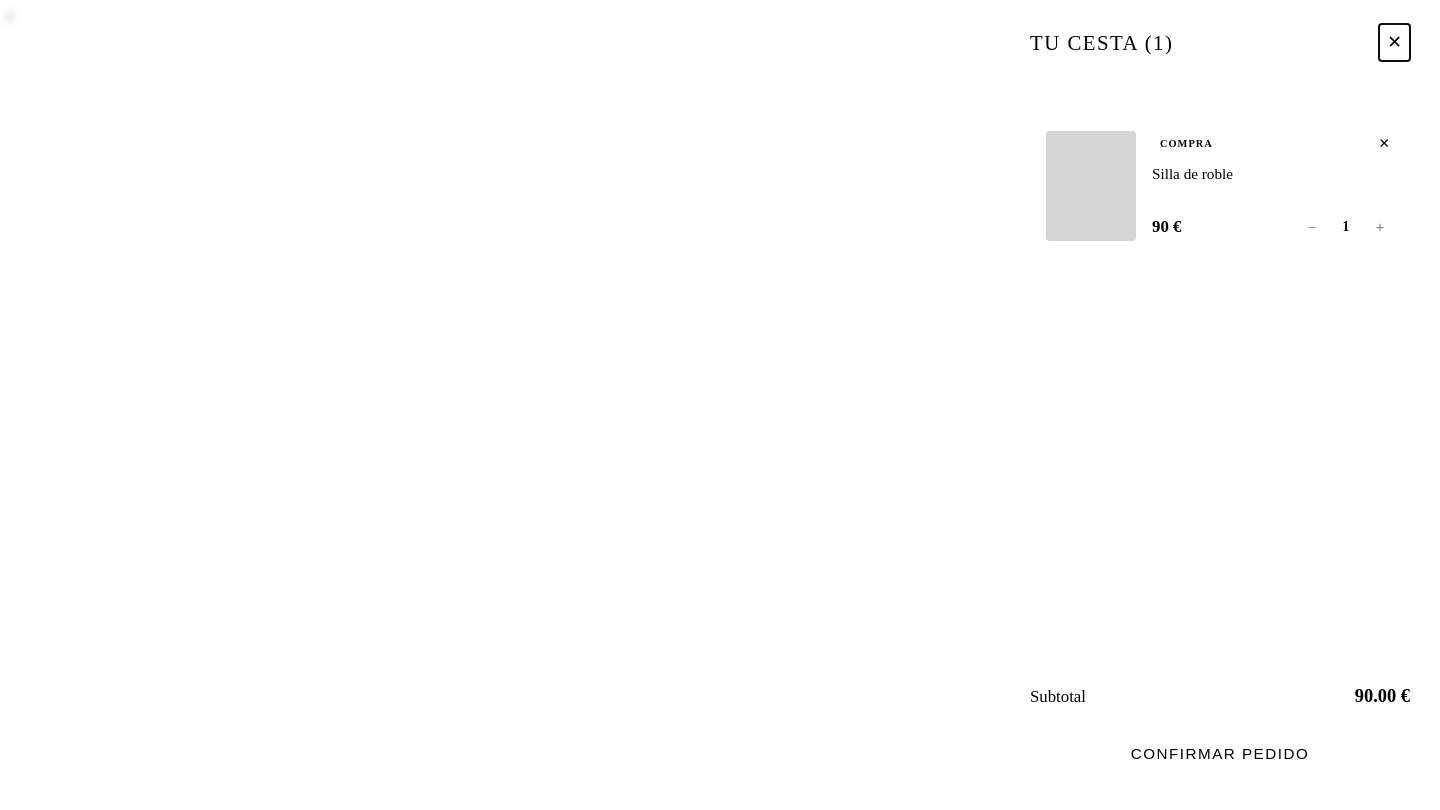
CartDrawer — confirmar pedido › con usuario logueado, "Confirmar Pedido" abre el modal de pago directamente
This screenshot has width=1440, height=810.
Click the button "Confirmar Pedido".
click(1220, 754)  # box x1=1030 y1=727 x2=1410 y2=780
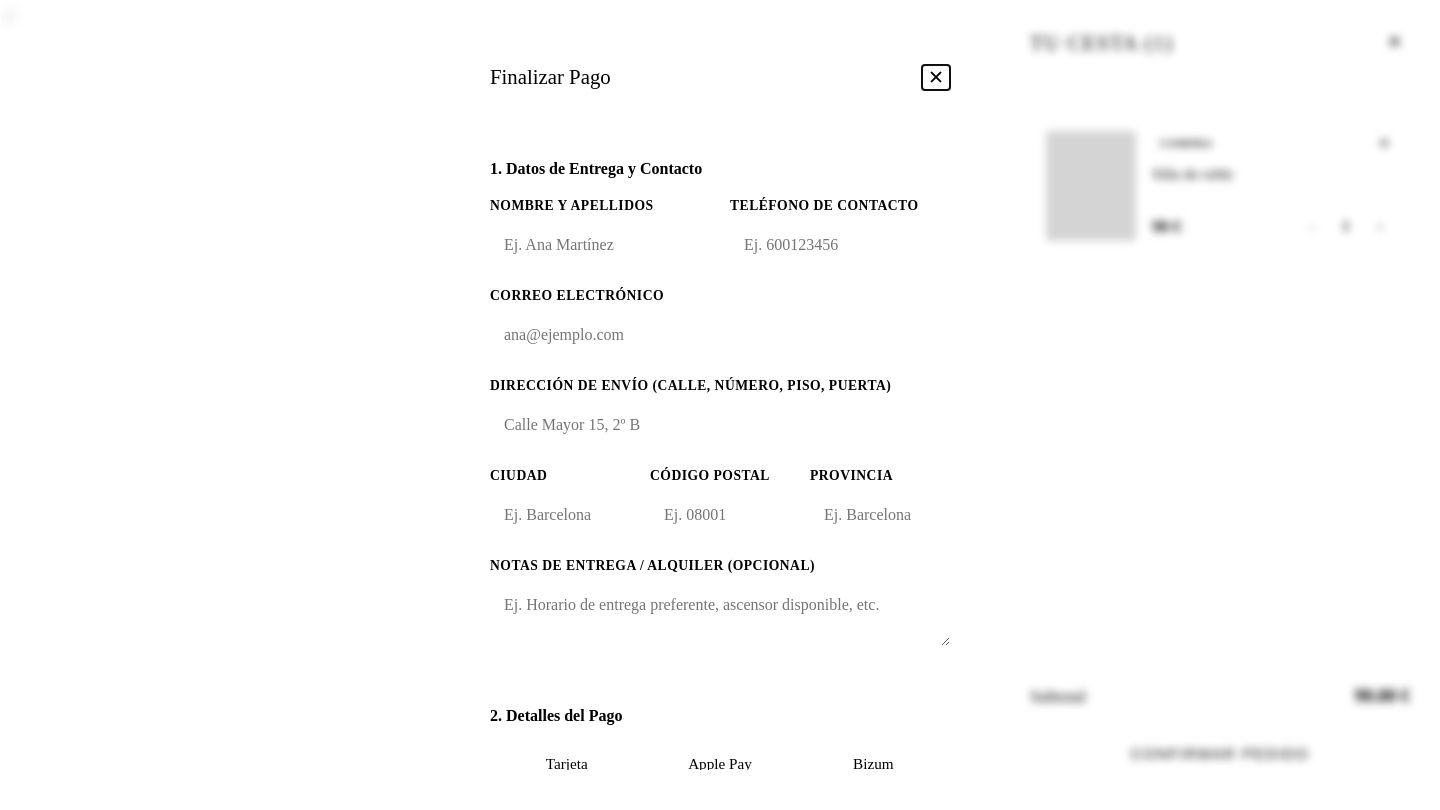
expect the heading "Finalizar Pago" is shown: met, box x1=490 y1=65 x2=611 y2=89
